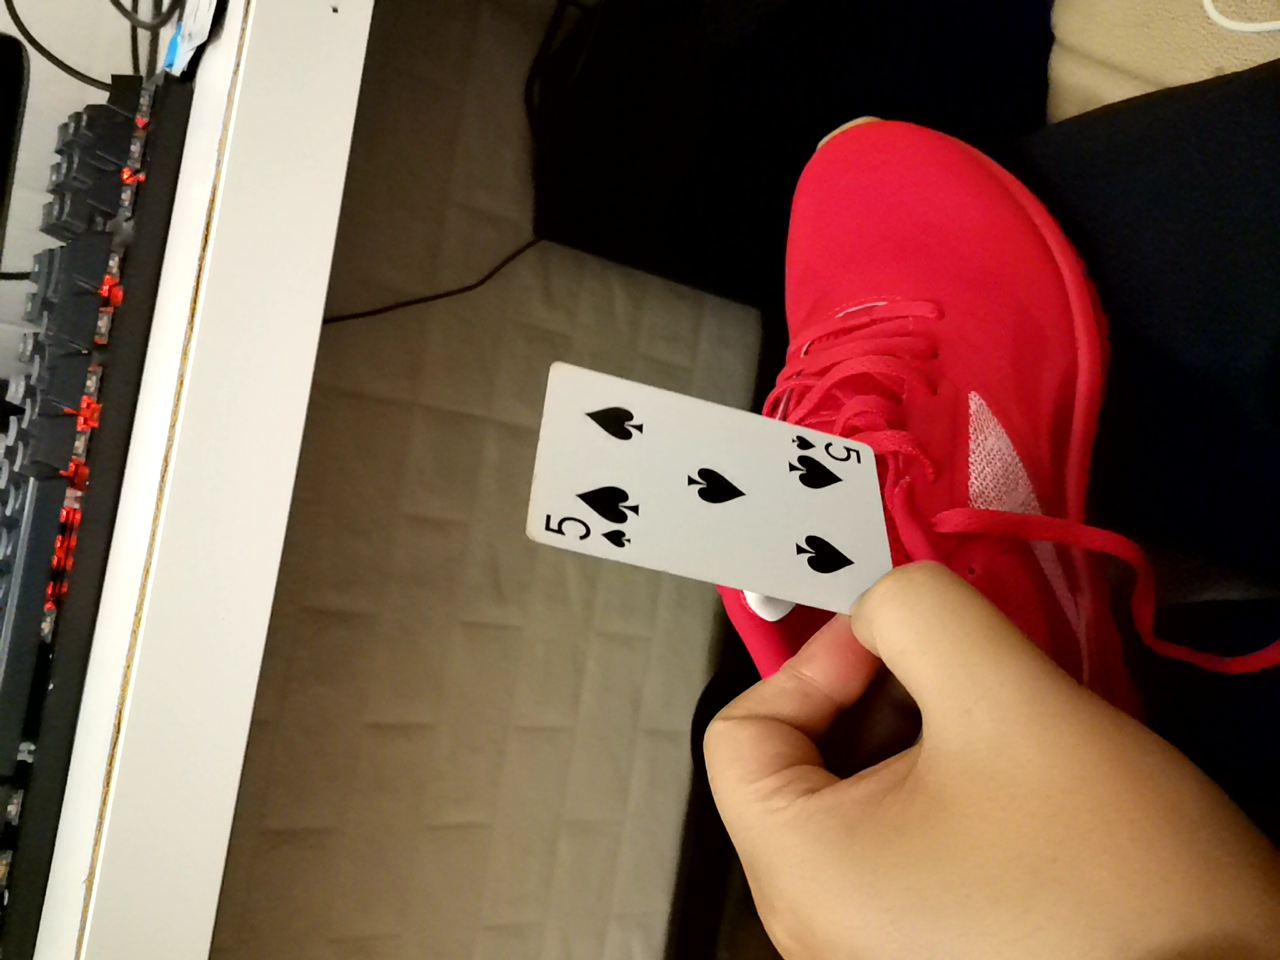ht 5: (514, 396, 898, 614)
